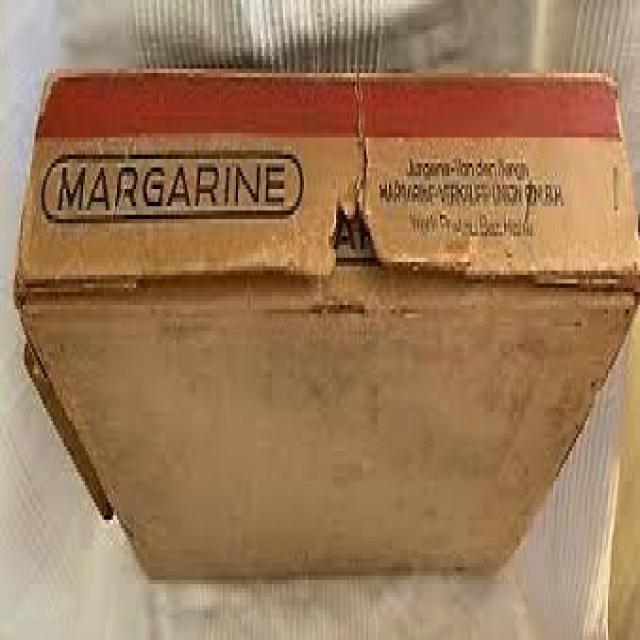cardboard: (11, 60, 638, 584)
